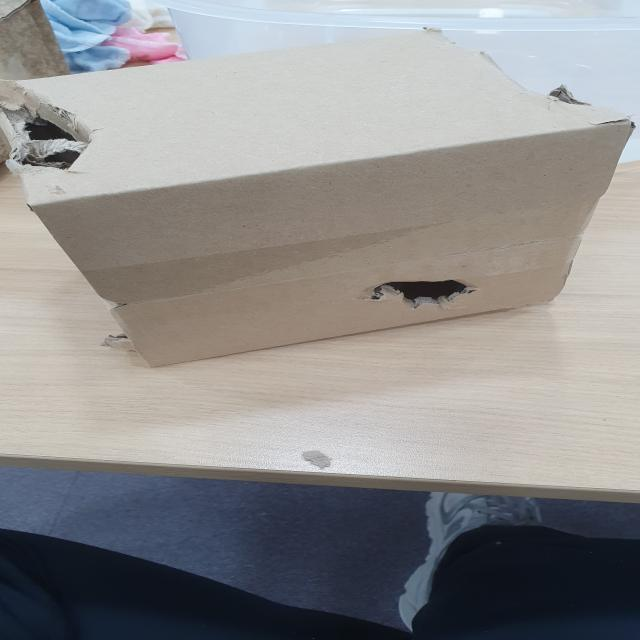hole: (7, 86, 96, 182), (362, 279, 490, 307)
